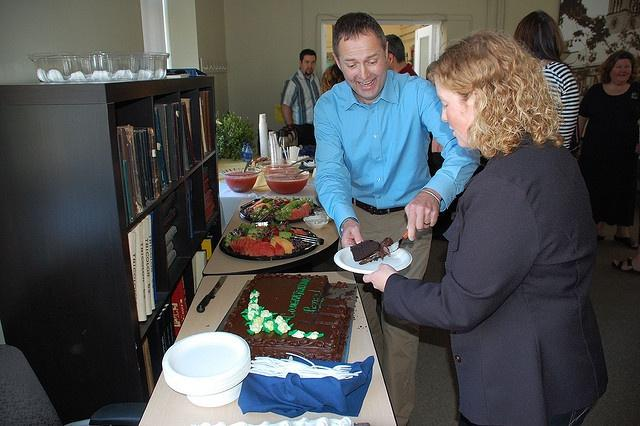Rak: (1, 74, 223, 405)
